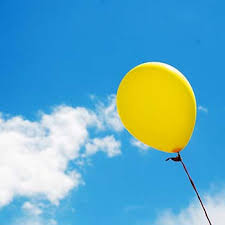Balloon: (116, 62, 197, 153)
